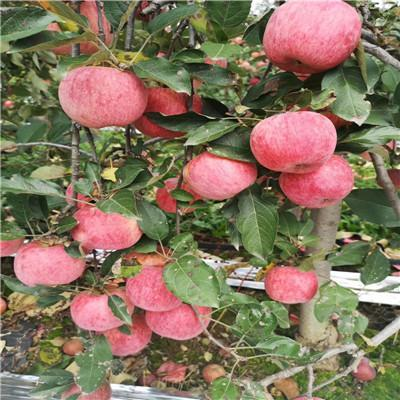apple: (263, 1, 360, 77), (250, 110, 338, 174), (58, 65, 147, 128), (278, 156, 354, 209), (181, 149, 255, 203), (71, 200, 146, 252), (13, 237, 86, 285), (135, 88, 203, 138), (70, 286, 135, 332), (125, 263, 188, 310), (144, 299, 211, 341), (263, 267, 318, 304), (350, 357, 375, 381)
